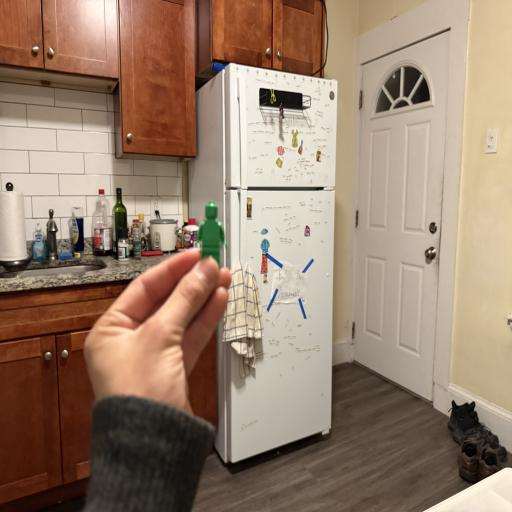Minifig: (197, 201, 225, 264)
